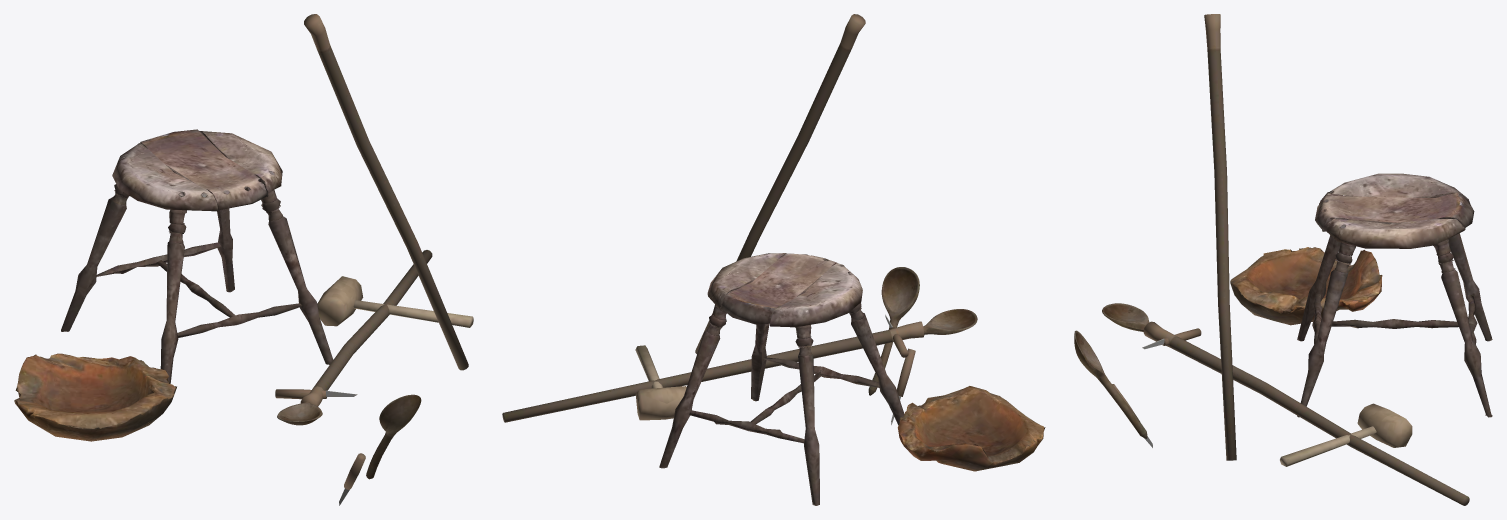
The model's file is smithy-elder-props-quest.glb.
The picture shows the model from 3 angles, left to right: view 1: azimuth 30°, elevation 25°; view 2: azimuth 150°, elevation 25°; view 3: azimuth 270°, elevation 25°; orthographic projection. The views are drawn at different scales.
Parts seen in each view (by area): view 1: workplace_static, prop_stick_rest, prop_stick, prop_spoon_rest, prop_spoon, prop_knife; view 2: workplace_static, prop_stick, prop_stick_rest, prop_spoon_rest, prop_spoon; view 3: workplace_static, prop_stick_rest, prop_stick, prop_spoon_rest, prop_spoon.
Boxes of the visible parts, x1,y1,x2,y2 form: workplace_static: (14, 129, 473, 441); prop_stick_rest: (304, 14, 468, 370); prop_stick: (300, 250, 432, 406); prop_spoon_rest: (366, 394, 421, 479); prop_spoon: (277, 401, 322, 425); prop_knife: (275, 389, 357, 399); workplace_static: (635, 253, 1045, 505); prop_stick: (502, 321, 924, 422); prop_stick_rest: (695, 14, 865, 353); prop_spoon_rest: (868, 267, 919, 395); prop_spoon: (909, 309, 977, 337); workplace_static: (1230, 173, 1492, 466); prop_stick_rest: (1204, 14, 1236, 460); prop_stick: (1143, 321, 1469, 505); prop_spoon_rest: (1074, 330, 1147, 438); prop_spoon: (1102, 303, 1149, 331).
Size of the model in its own units: 1.1 by 0.9873 by 0.8533.
Materials: 1 (1 with a texture image).
